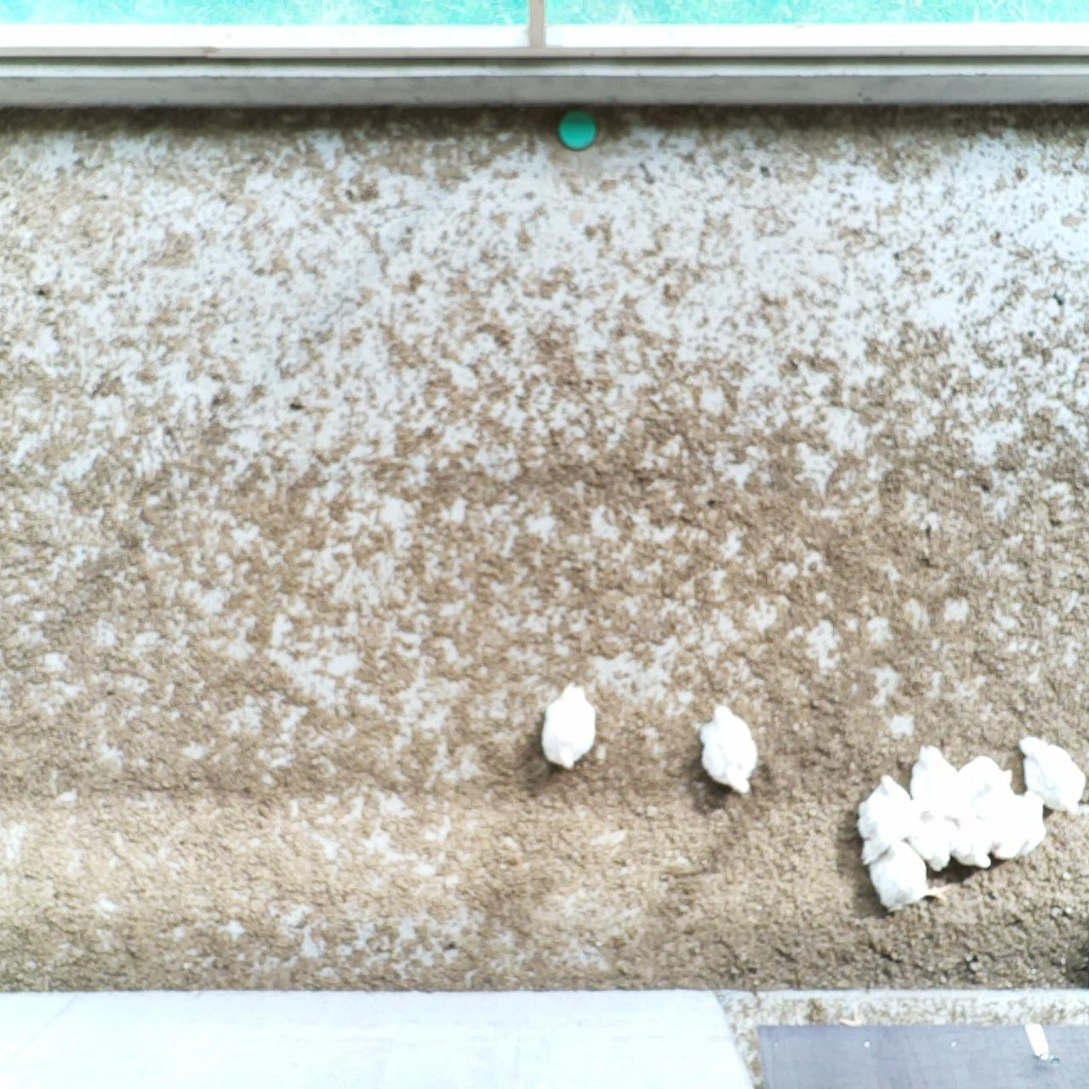chicken: (1016, 733, 1088, 821), (697, 701, 761, 797), (539, 677, 596, 771), (857, 772, 913, 864), (867, 840, 935, 911), (909, 740, 960, 820), (907, 801, 960, 874), (993, 790, 1048, 860), (956, 756, 1017, 810), (952, 809, 993, 873)
